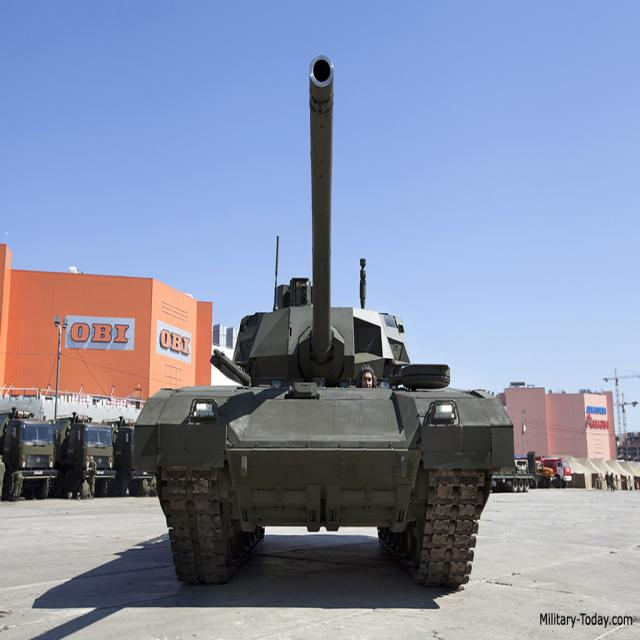Tank: (142, 45, 492, 583)
